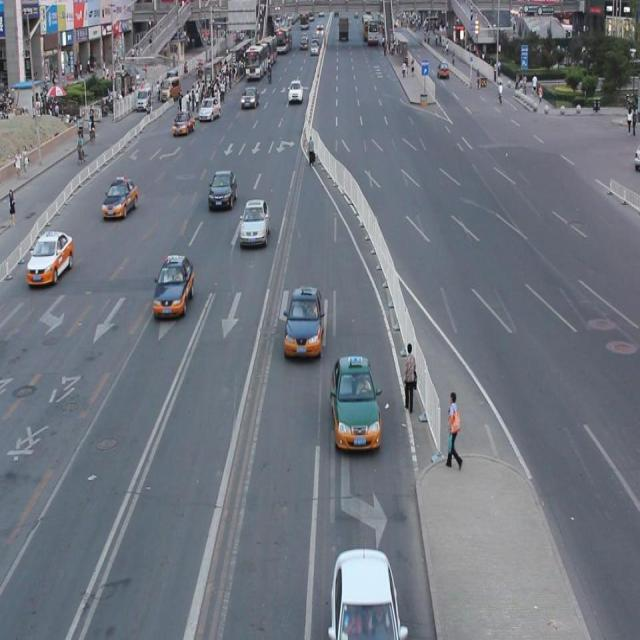car: (330, 545, 401, 640), (330, 352, 381, 452), (282, 284, 324, 361), (26, 227, 75, 287), (152, 254, 195, 320), (102, 176, 139, 220), (238, 196, 270, 246), (207, 167, 237, 212)
